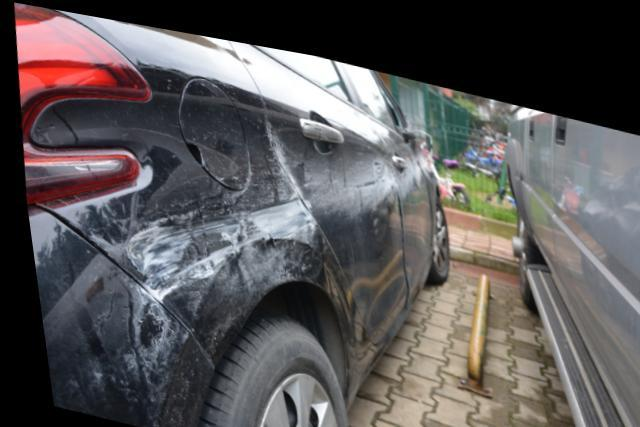rub: (116, 118, 311, 339), (49, 276, 184, 427)
